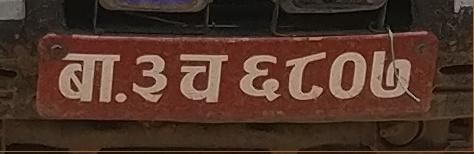0: (329, 47, 368, 105)
3: (129, 50, 170, 111)
6: (236, 47, 283, 109)
7: (368, 46, 415, 102)
8: (283, 47, 329, 105)
ba: (55, 49, 127, 110)
cha: (173, 49, 232, 112)
